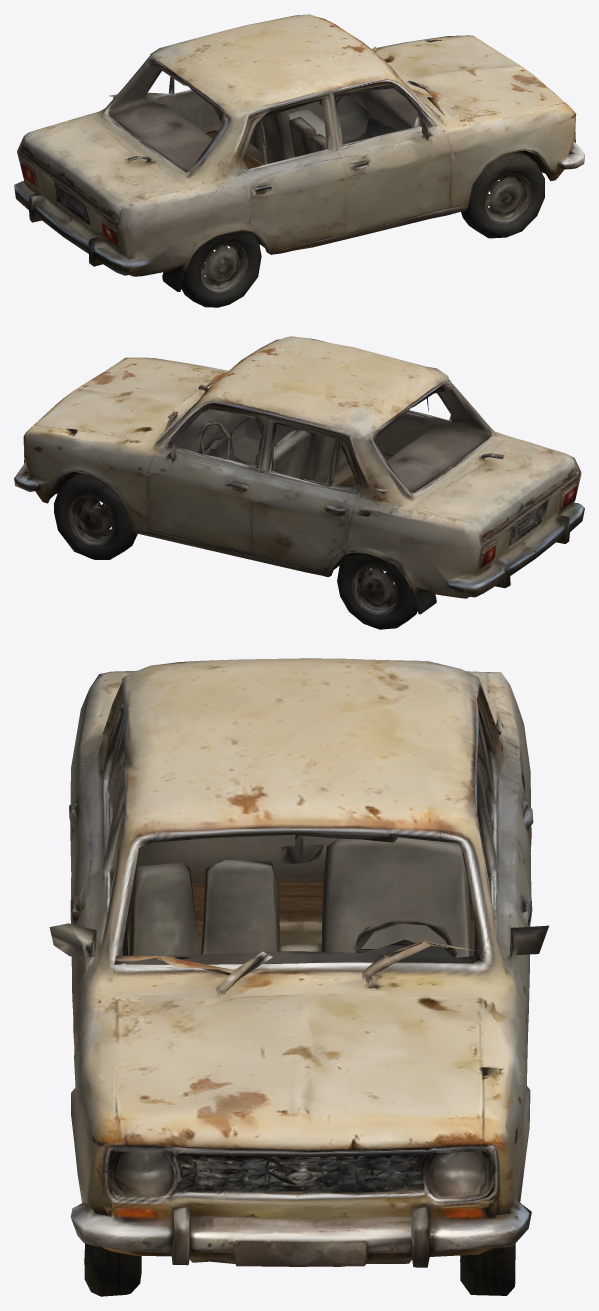
The model's file is ul_car.glb.
The picture shows the model from 3 angles, top to bottom: view 1: azimuth 30°, elevation 25°; view 2: azimuth 150°, elevation 25°; view 3: azimuth 270°, elevation 25°; orthographic projection. The views are drawn at different scales.
Visible parts, largest first — view 1: tripo_node_acad9925-bb5e-463f-bf67-524678d5d5c6; view 2: tripo_node_acad9925-bb5e-463f-bf67-524678d5d5c6; view 3: tripo_node_acad9925-bb5e-463f-bf67-524678d5d5c6.
Boxes of the visible parts, box(x1,y1,x2,y2) form: tripo_node_acad9925-bb5e-463f-bf67-524678d5d5c6: box(14, 14, 584, 307); tripo_node_acad9925-bb5e-463f-bf67-524678d5d5c6: box(14, 336, 584, 629); tripo_node_acad9925-bb5e-463f-bf67-524678d5d5c6: box(49, 658, 548, 1296).
Size of the model in its own units: 1 by 0.3824 by 0.4463.
Materials: 1 (1 with a texture image).
